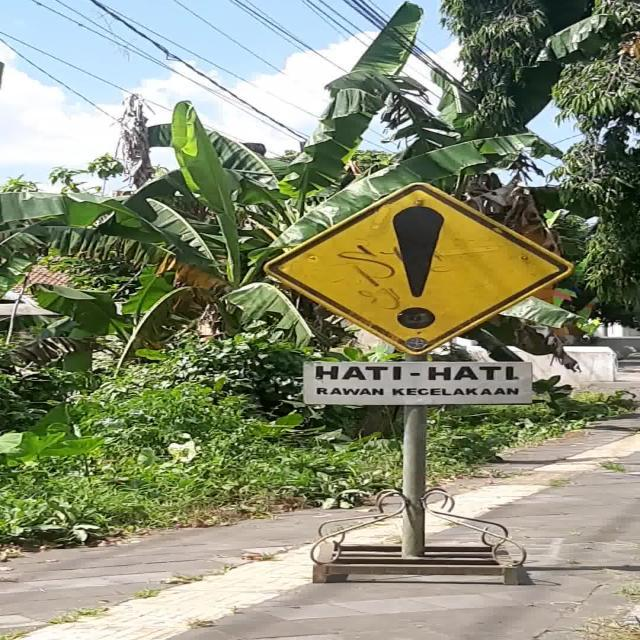Hati-Hati: (260, 182, 576, 356)
